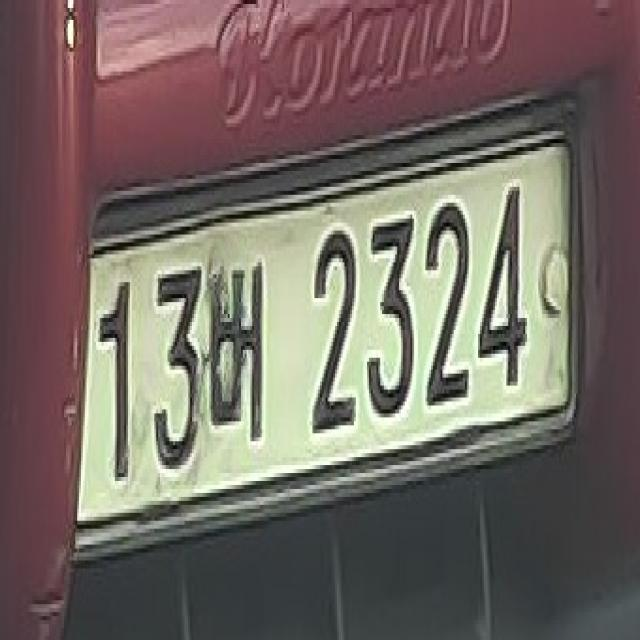1: (90, 274, 145, 489)
2: (305, 215, 365, 457), (418, 183, 476, 429)
3: (367, 191, 418, 441), (151, 258, 205, 493)
4: (474, 167, 536, 413)
beo: (207, 255, 267, 457)
license_plate: (60, 111, 582, 568)
